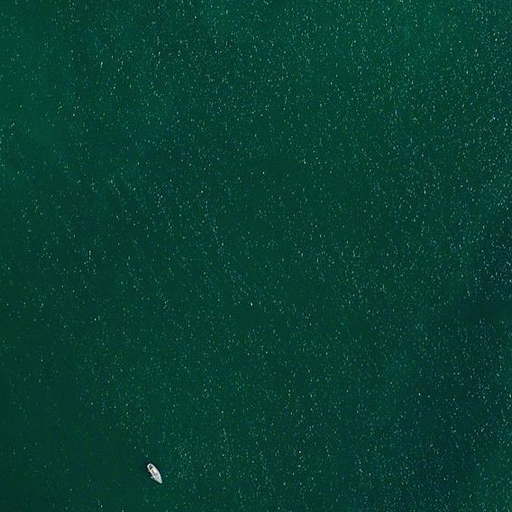ship: (143, 460, 166, 487)
